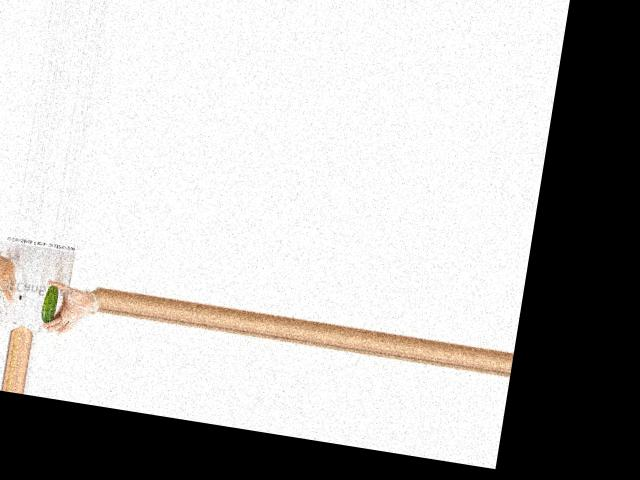cucumber: (41, 284, 60, 324)
